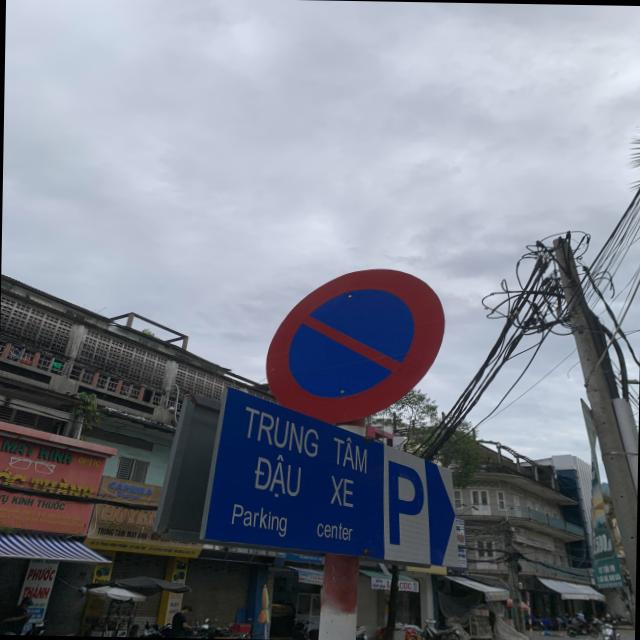Cam_Dau_Xe: (263, 265, 446, 426)
